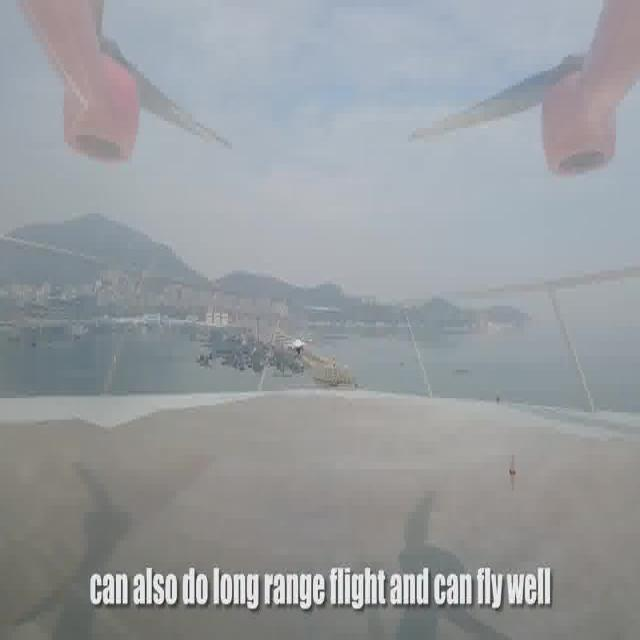Drone_FW: (284, 332, 312, 364)
